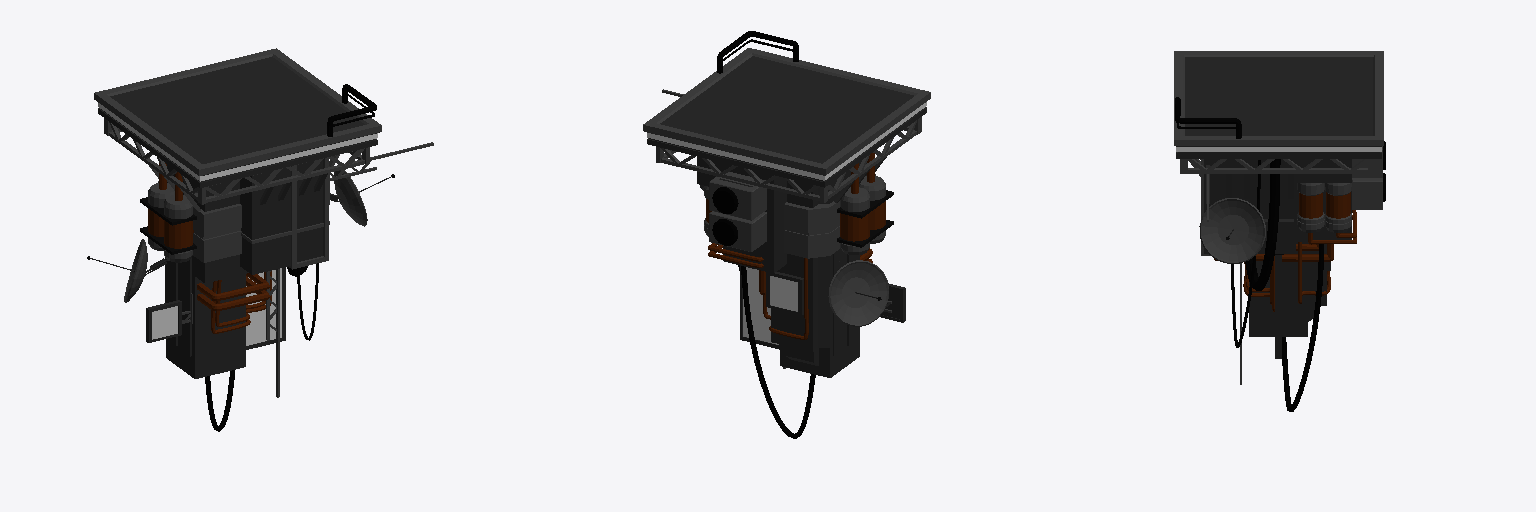
File: Platform_2x2_Cube.obj
The picture shows the model from 3 angles: view 1: azimuth 30°, elevation 25°; view 2: azimuth 150°, elevation 25°; view 3: azimuth 270°, elevation 25°; orthographic projection.
Visible parts, largest first — view 1: Platform_2x2_Cube; view 2: Platform_2x2_Cube; view 3: Platform_2x2_Cube.
Boxes of the visible parts, <box> form: Platform_2x2_Cube: <box>87,48,433,431</box>; Platform_2x2_Cube: <box>643,31,930,438</box>; Platform_2x2_Cube: <box>1174,51,1385,411</box>.
Bounding box in the file's own units: 3.31 × 3.83 × 2.16.